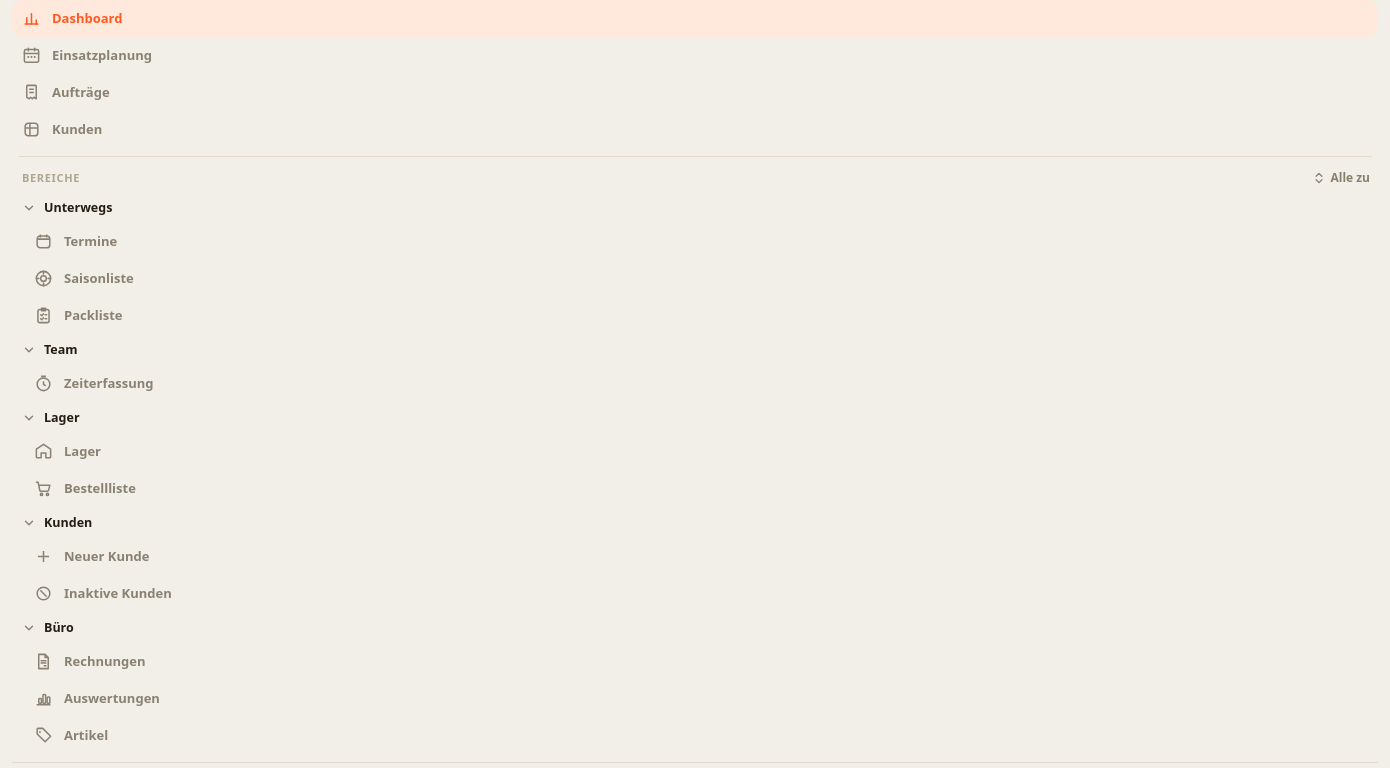
it: FsmNavigation › Alle zu, dann Alle auf
Click the button "Alle zu" at (1341, 178), box [1306,165,1376,190]
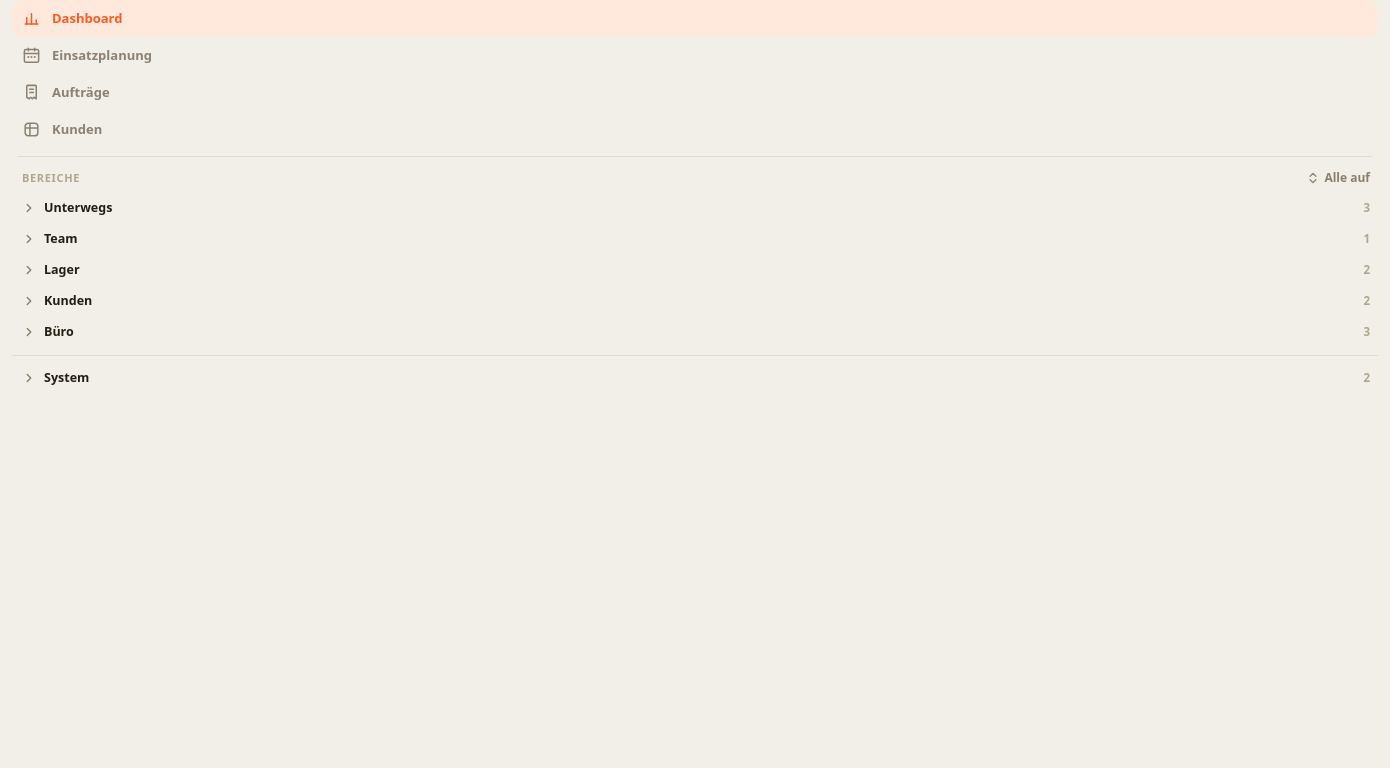
Now the text "Termine" is gone
Click the button "Alle auf" at (1338, 178), box [1300,165,1376,190]
(page scrolled)
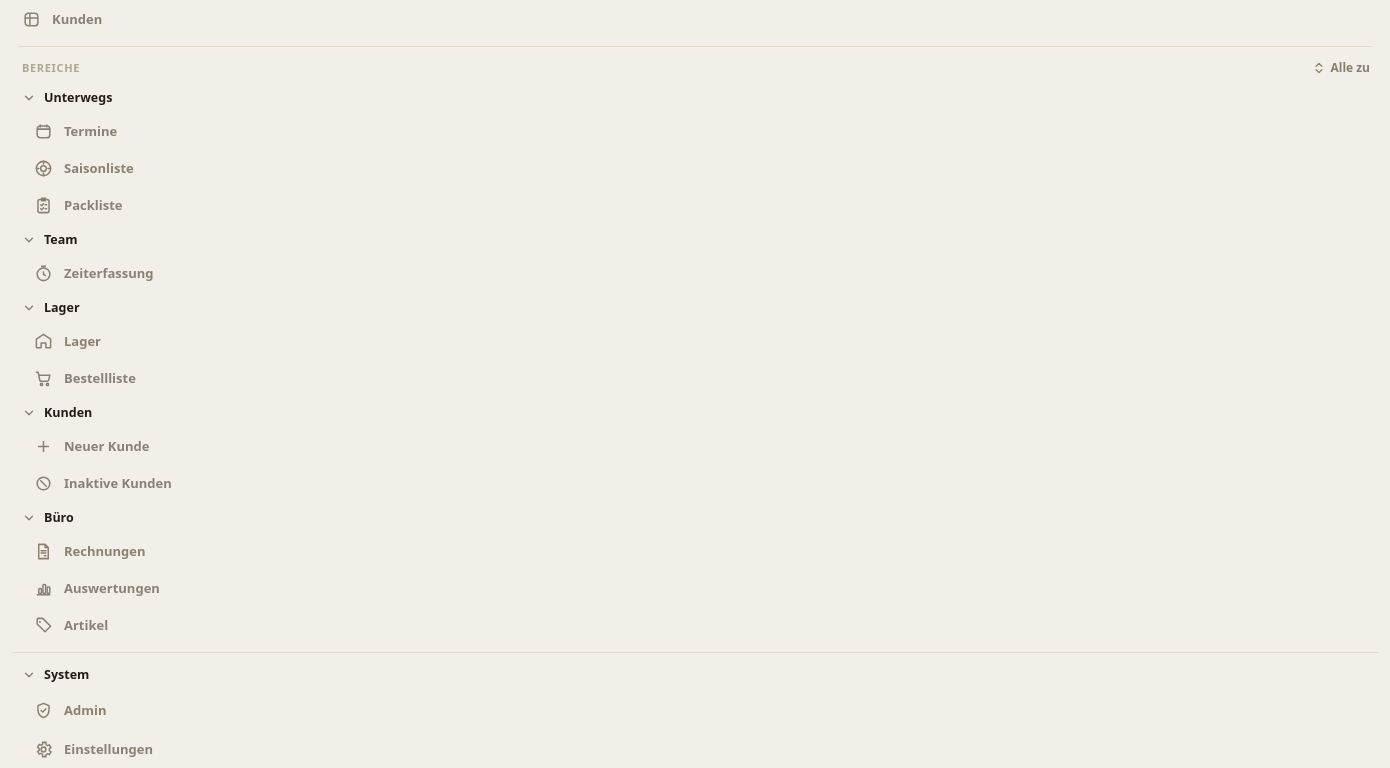
Now the text "Termine" is shown, box [64,123,117,140]
Now the text "Einstellungen" is shown, box [64,741,153,758]
